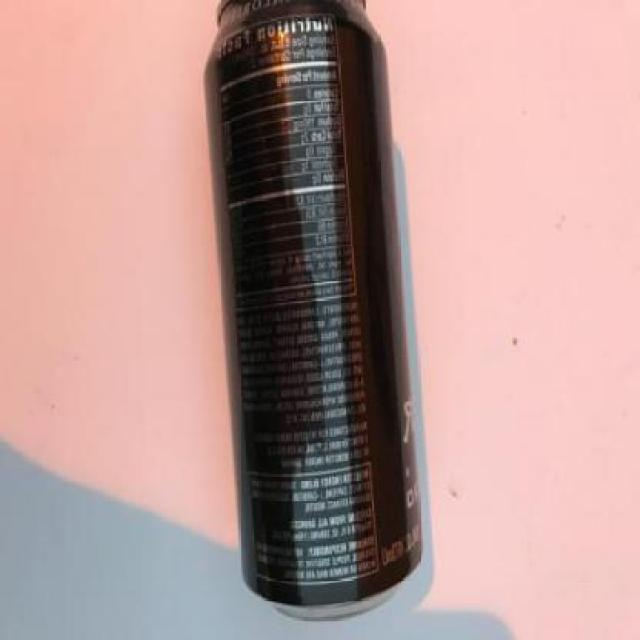METAL: (205, 0, 426, 620)
